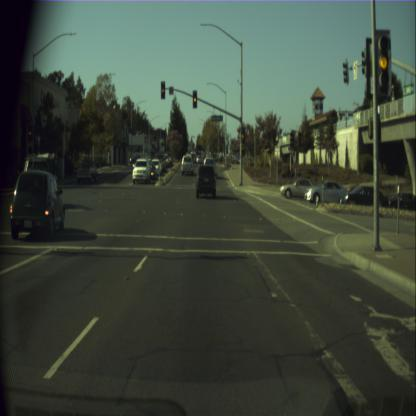Yellow: (374, 28, 391, 96), (192, 90, 197, 108), (27, 123, 32, 141), (160, 80, 164, 99), (240, 127, 244, 144)
